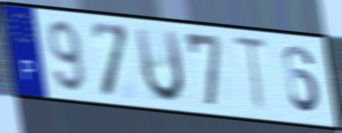6: (282, 44, 322, 116)
7: (182, 30, 226, 109), (92, 20, 130, 101)
9: (46, 18, 88, 95)
T: (231, 33, 271, 117)
U: (132, 25, 187, 106)
